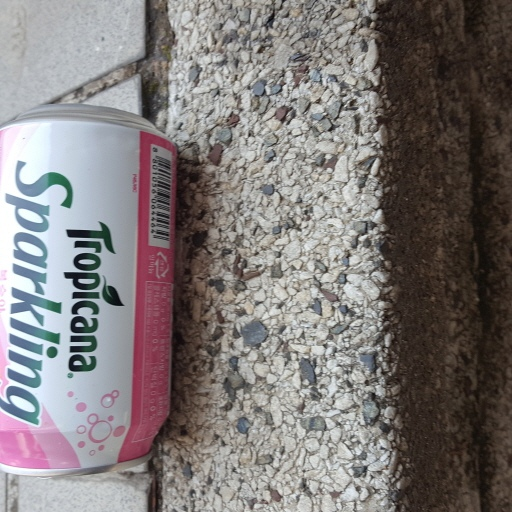Metal_0: (1, 103, 177, 485)
